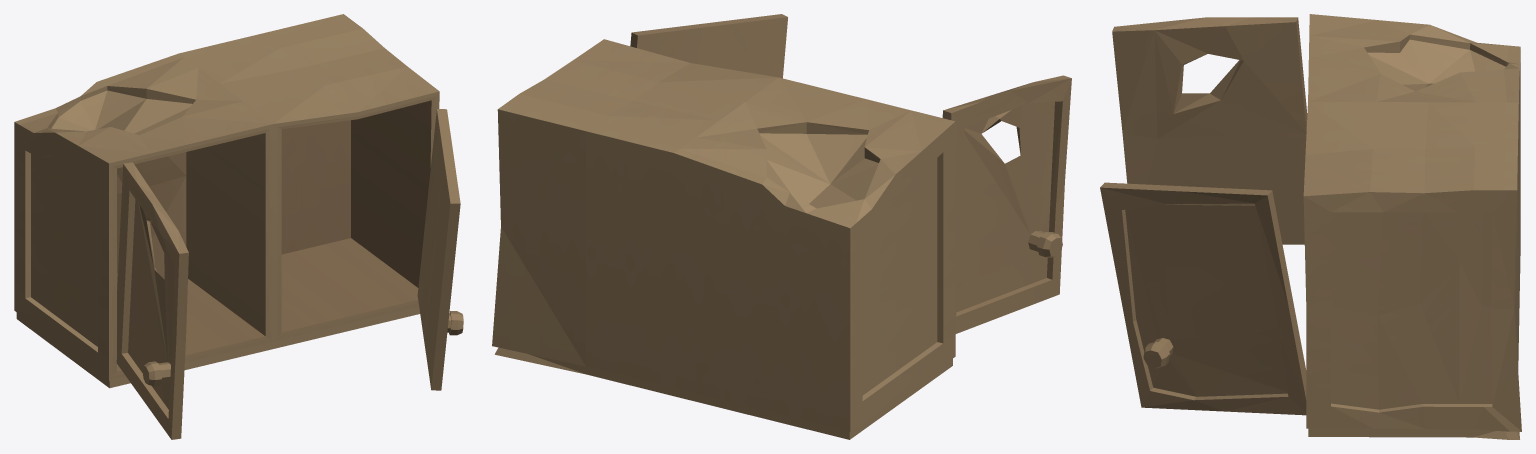
The model's file is shelf_3.fbx.
3 views of the same model, side by side, from view 1: azimuth 30°, elevation 25°; view 2: azimuth 150°, elevation 25°; view 3: azimuth 270°, elevation 25° (orthographic). The views are drawn at different scales.
Visible parts, largest first — view 1: shelf_3; view 2: shelf_3; view 3: shelf_3.
Part boxes in pixels (x1,y1,x2,y2): shelf_3: [14, 14, 463, 439]; shelf_3: [492, 14, 1071, 439]; shelf_3: [1100, 14, 1521, 439].
Bounding box in the file's own units: 0.8319 × 0.5164 × 0.7652.
